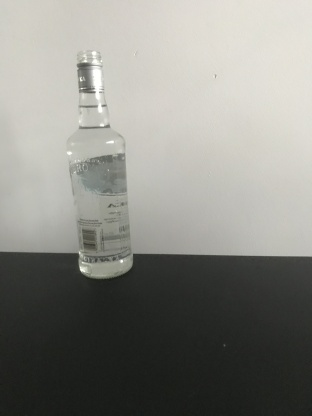nakretka: (75, 48, 105, 93)
